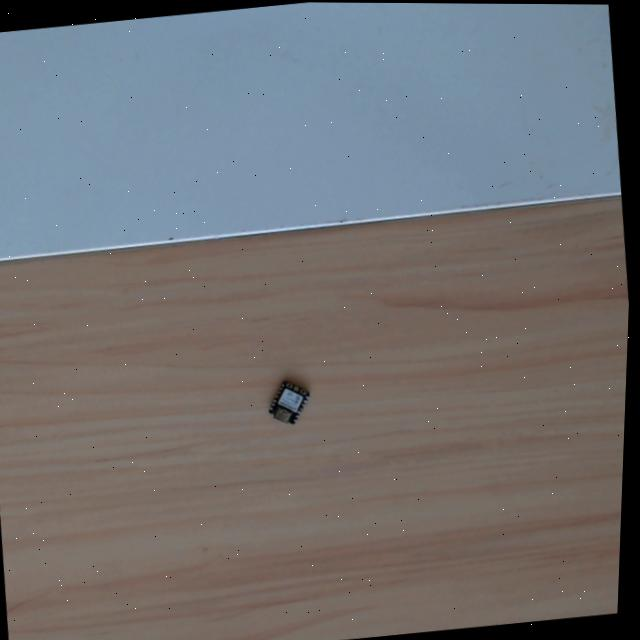ESP32C3-Xiao: (263, 377, 312, 430)
